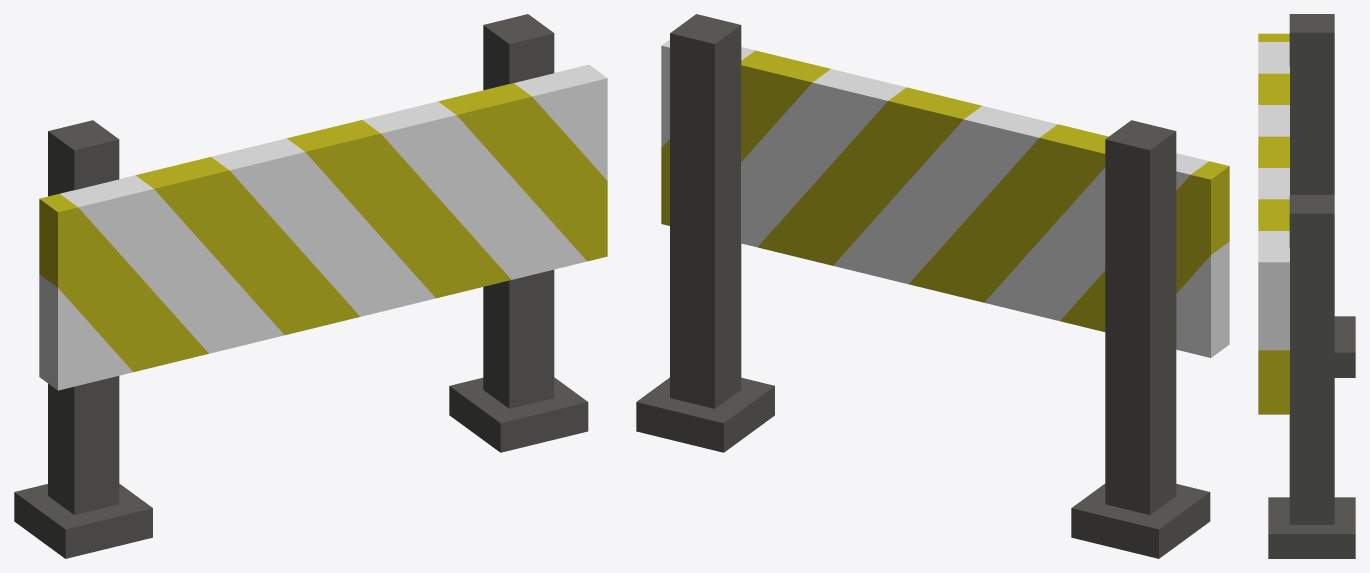
The model's file is Barrera.fbx.
The picture shows the model from 3 angles, left to right: view 1: azimuth 30°, elevation 25°; view 2: azimuth 150°, elevation 25°; view 3: azimuth 270°, elevation 25°; orthographic projection. The views are drawn at different scales.
Parts seen in each view (by area): view 1: Cube.001; view 2: Cube.001; view 3: Cube.001.
Part boxes in pixels (x1=…): Cube.001: x1=14, y1=14, x2=607, y2=558; Cube.001: x1=636, y1=14, x2=1229, y2=558; Cube.001: x1=1258, y1=14, x2=1355, y2=558.
Bounding box in the file's own units: 645 × 442 × 116.
